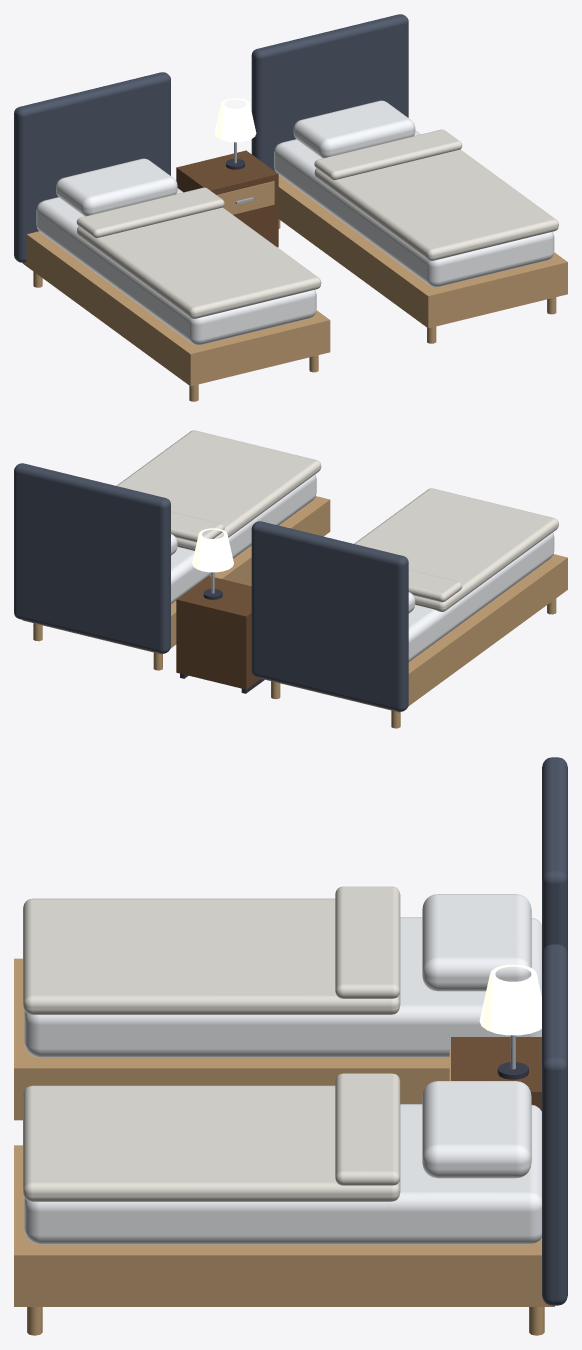
Rendered from hsp-002.glb.
The picture shows the model from 3 angles, top to bottom: view 1: azimuth 30°, elevation 25°; view 2: azimuth 150°, elevation 25°; view 3: azimuth 270°, elevation 25°; orthographic projection. The views are drawn at different scales.
Parts seen in each view (by area): view 1: linen, upholstery, oak, white, walnut, lamp; view 2: upholstery, linen, oak, white, walnut, lamp; view 3: linen, white, oak, upholstery, walnut, lamp.
Part boxes in pixels (x1,y1,x2,y2): linen: [76, 129, 558, 318]; upholstery: [14, 14, 408, 262]; oak: [22, 175, 567, 401]; white: [36, 100, 554, 345]; walnut: [176, 150, 278, 247]; lamp: [214, 98, 256, 142]; upholstery: [14, 463, 408, 711]; linen: [116, 430, 558, 611]; oak: [22, 496, 567, 728]; white: [171, 474, 554, 661]; walnut: [176, 576, 260, 689]; lamp: [192, 528, 233, 572]; linen: [23, 886, 400, 1201]; white: [24, 894, 541, 1244]; oak: [14, 958, 554, 1335]; upholstery: [542, 757, 567, 1305]; walnut: [451, 1037, 541, 1110]; lamp: [479, 964, 541, 1035].
Bounding box in the file's own units: 2.8 × 1.2 × 2.13.
